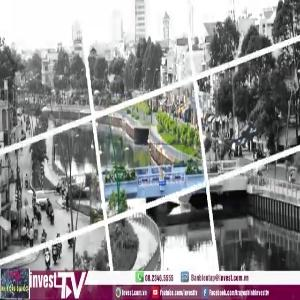drone: (209, 98, 283, 172)
